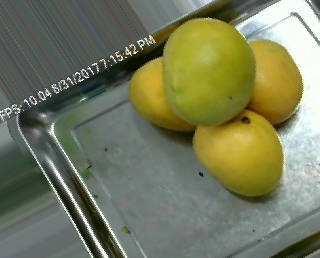Mango: (163, 18, 255, 126), (193, 109, 282, 196), (131, 56, 204, 131), (239, 40, 303, 123)
